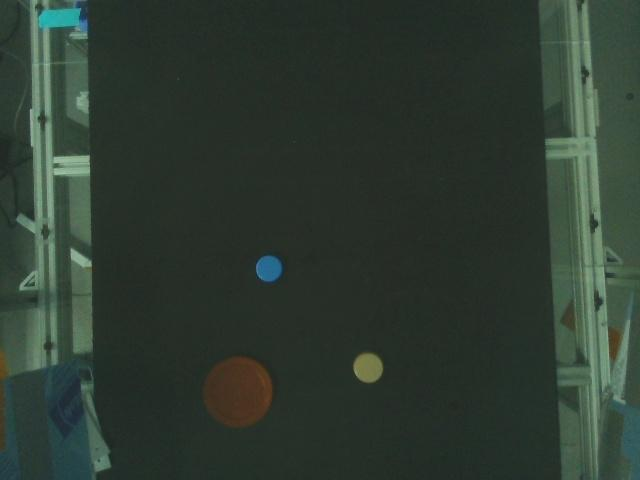plastic: (198, 351, 278, 431), (349, 347, 387, 387), (252, 252, 287, 285)
